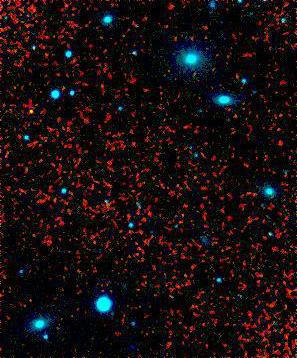star: (14, 98, 44, 128)
